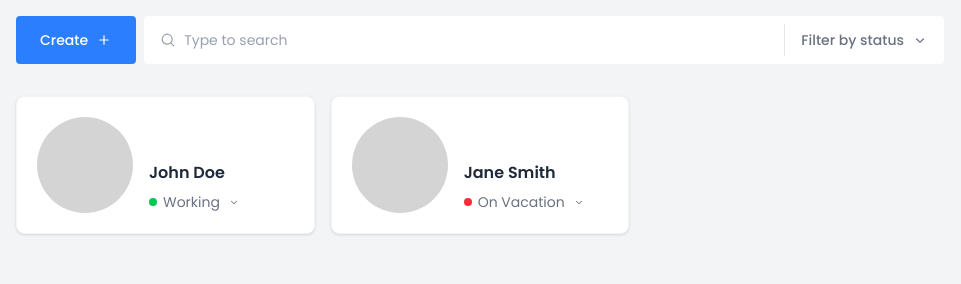
Test: EmployeesPanel › filters employees by status
This screenshot has width=961, height=284.
Click the button "Filter by status": (865, 40) [785,16,944,64]
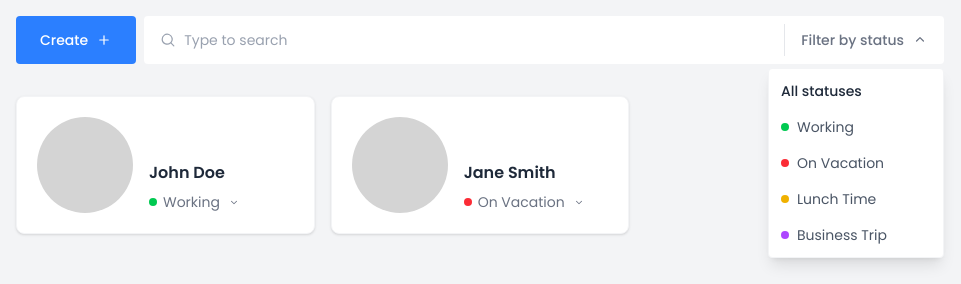
Click the 1st button "On Vacation": (856, 163) [769,145,943,181]
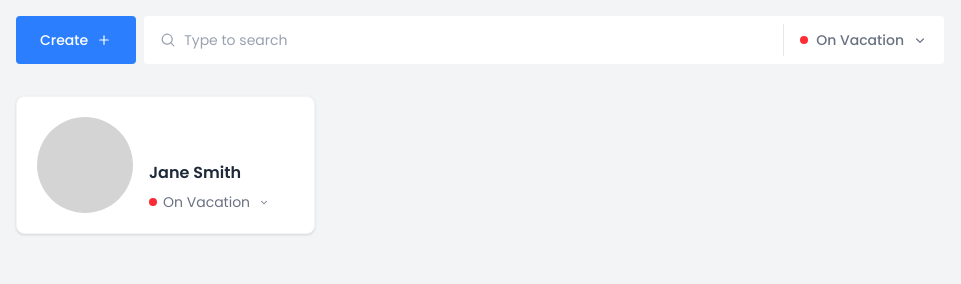
expect the text "Jane Smith" is shown: met, box [149,161,241,184]
expect the text "John Doe" is gone: met
